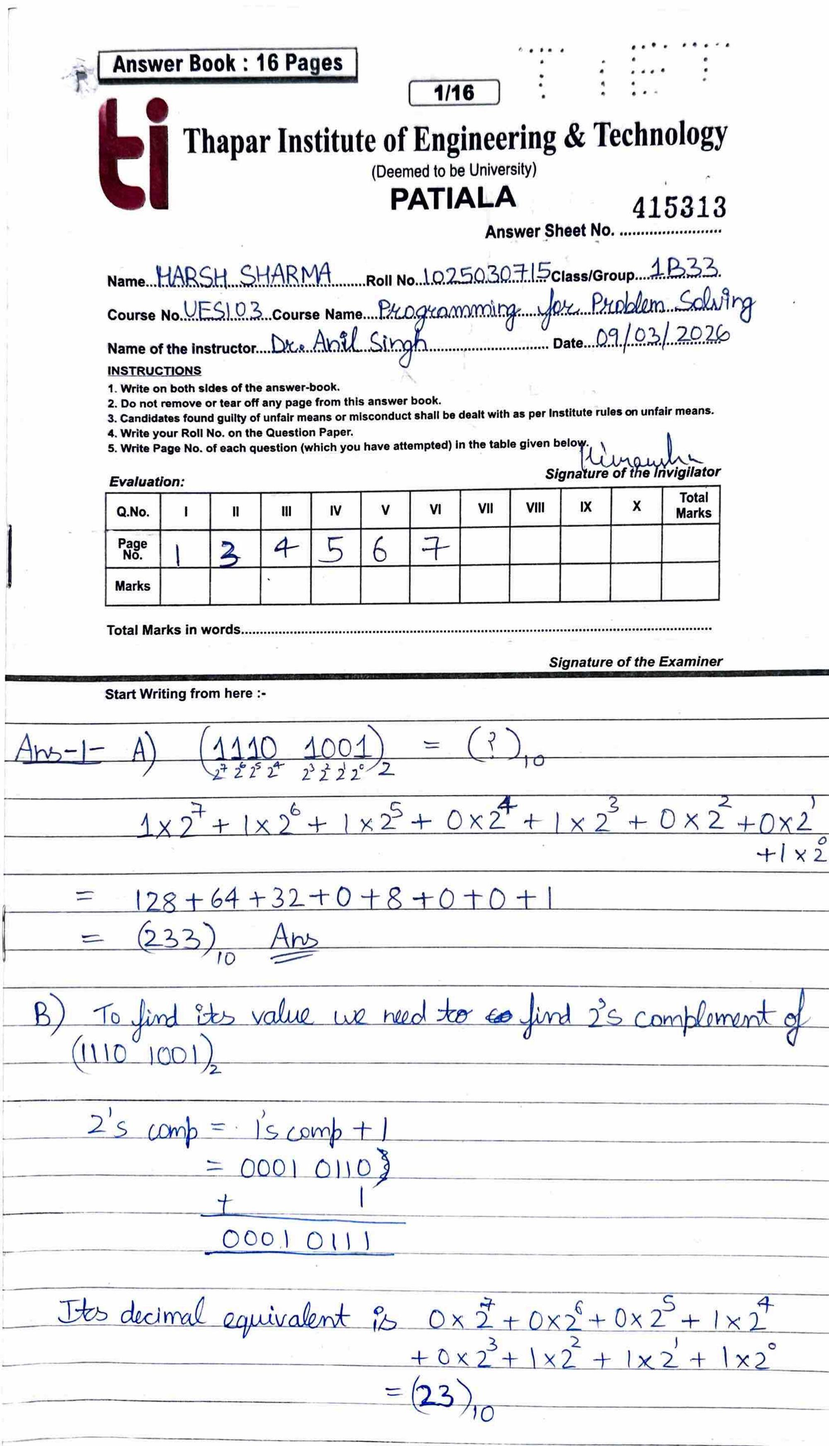cuttings: (371, 1147, 391, 1189), (484, 1007, 514, 1025)
